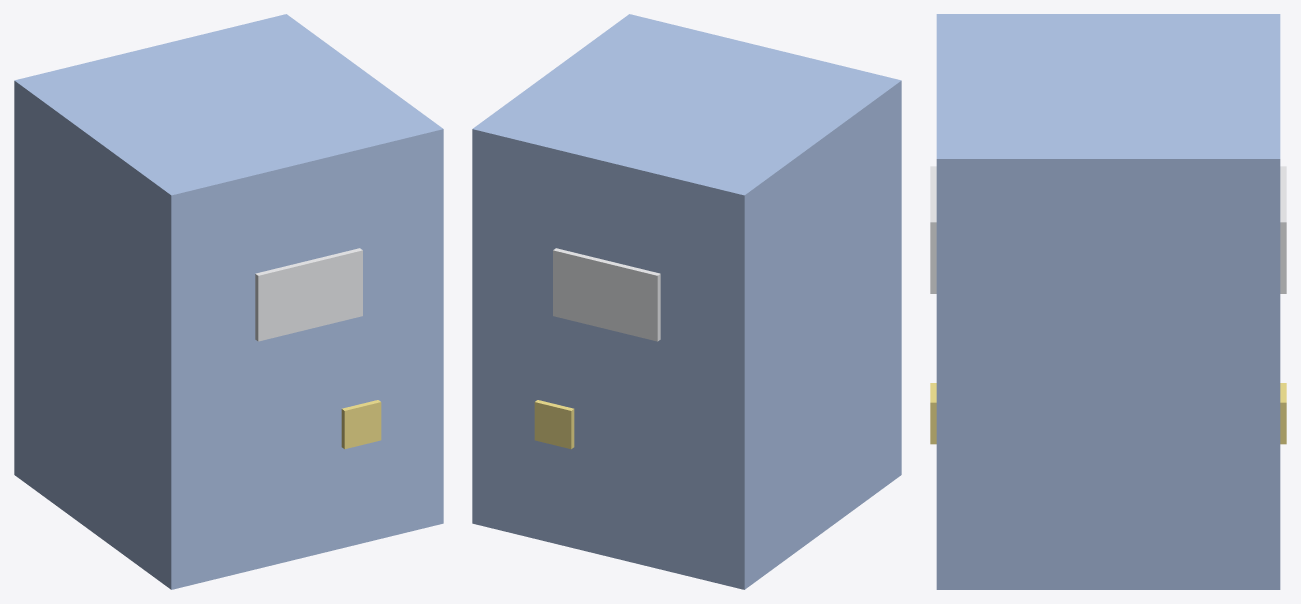
File: pijama_coxa.glb
3 views of the same model, side by side, from view 1: azimuth 30°, elevation 25°; view 2: azimuth 150°, elevation 25°; view 3: azimuth 270°, elevation 25° (orthographic). The views are drawn at different scales.
Visible parts, largest first — view 1: pijama_coxa; view 2: pijama_coxa; view 3: pijama_coxa.
Boxes of the visible parts, box(x1,y1,x2,y2) form: pijama_coxa: box(14, 14, 443, 589); pijama_coxa: box(472, 14, 901, 589); pijama_coxa: box(930, 14, 1286, 589).
Bounding box in the file's own units: 0.26 × 0.36 × 0.27.
